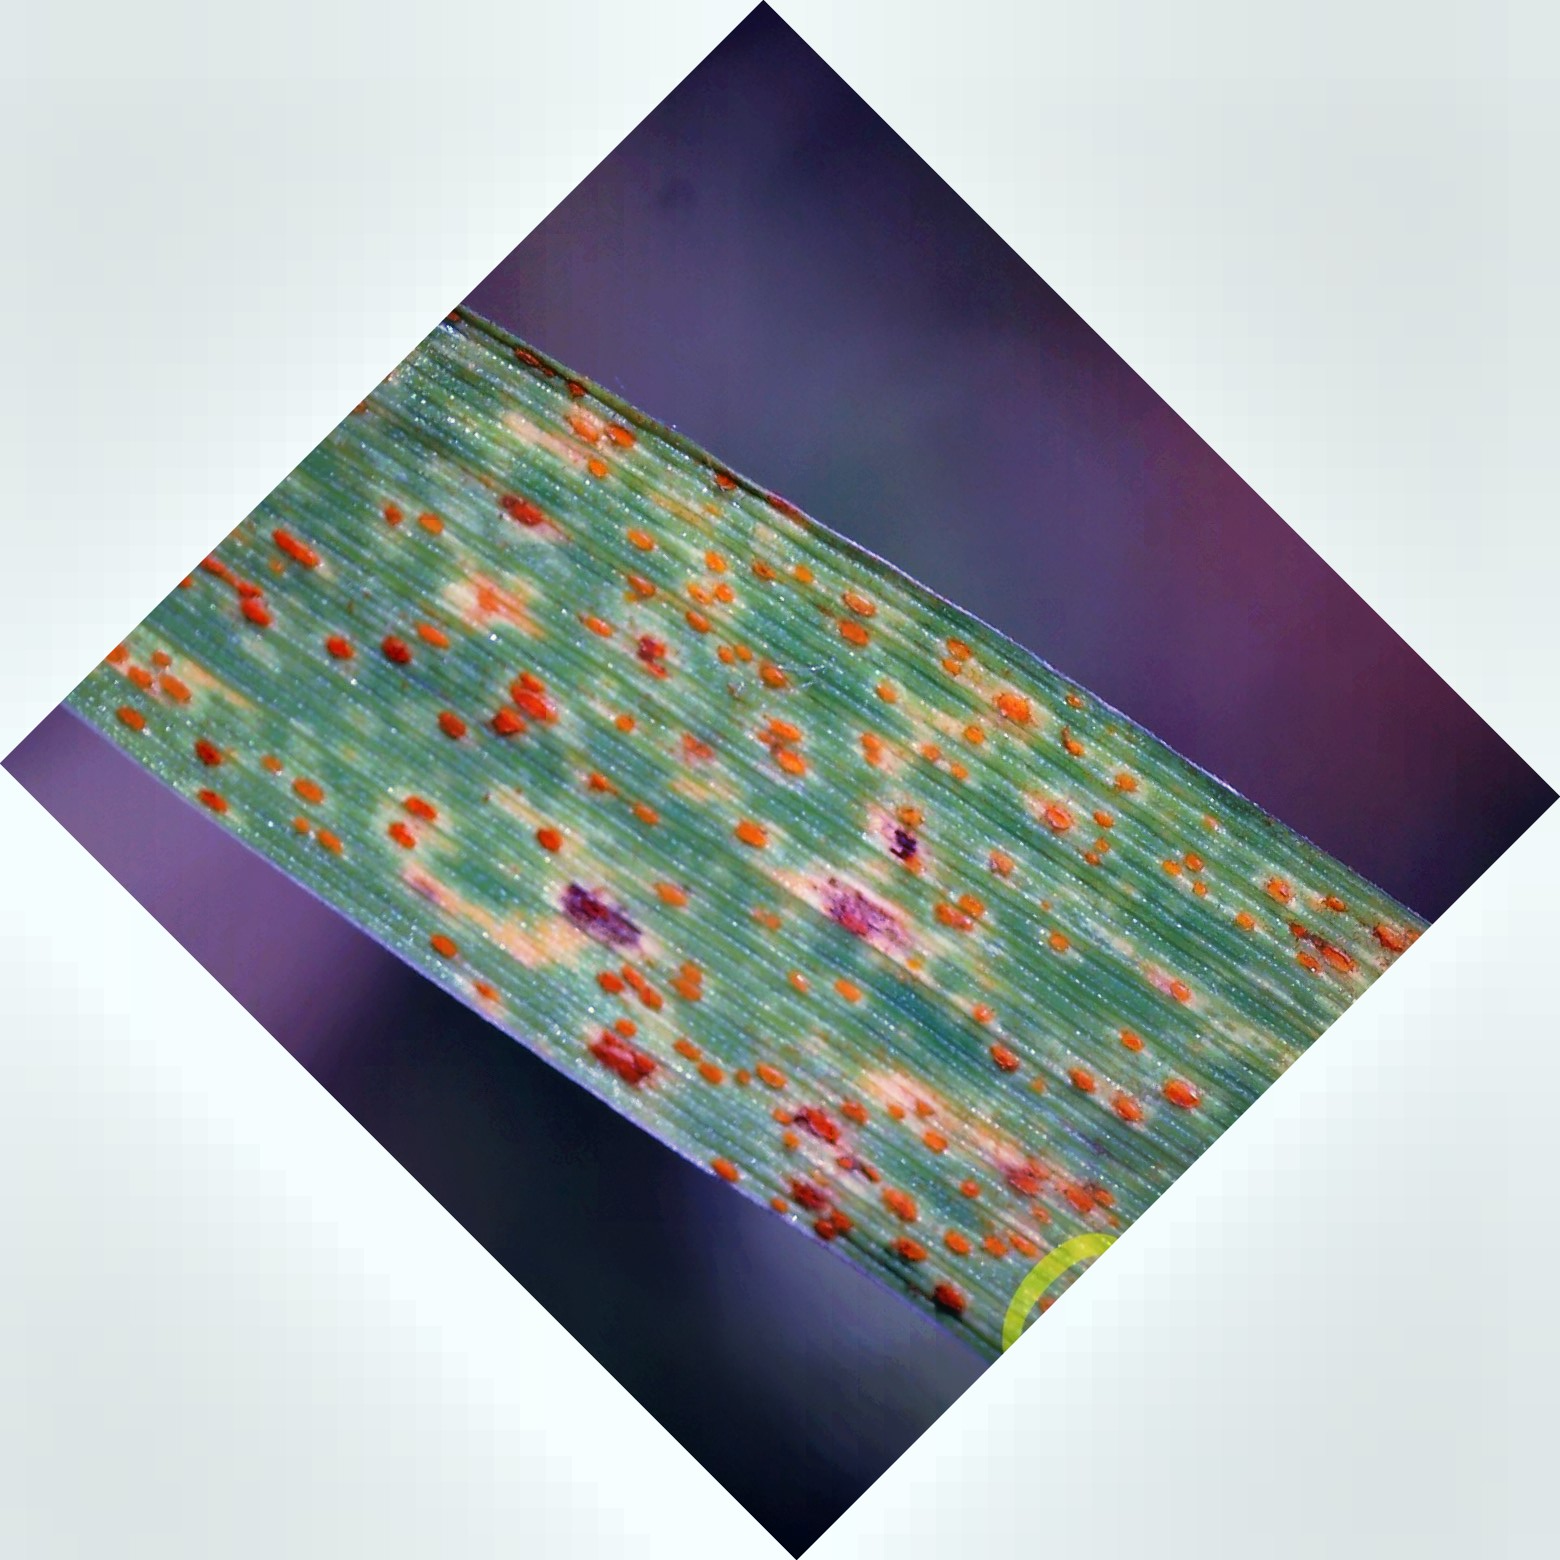Leaf Rust: (254, 423, 1231, 1289)
